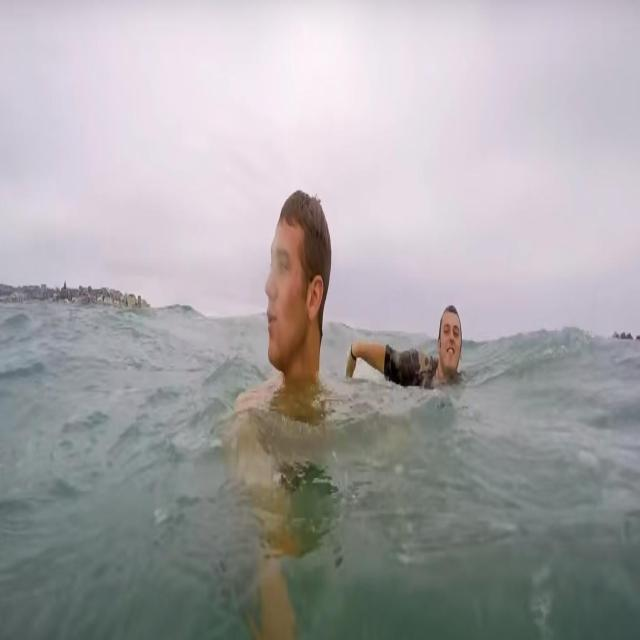Out of Water: (259, 179, 335, 388), (345, 294, 468, 399)
